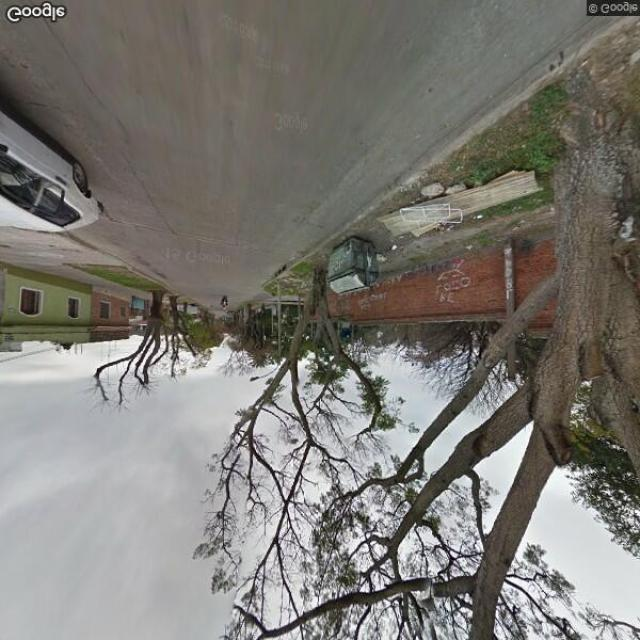garbage container: (321, 226, 387, 303)
